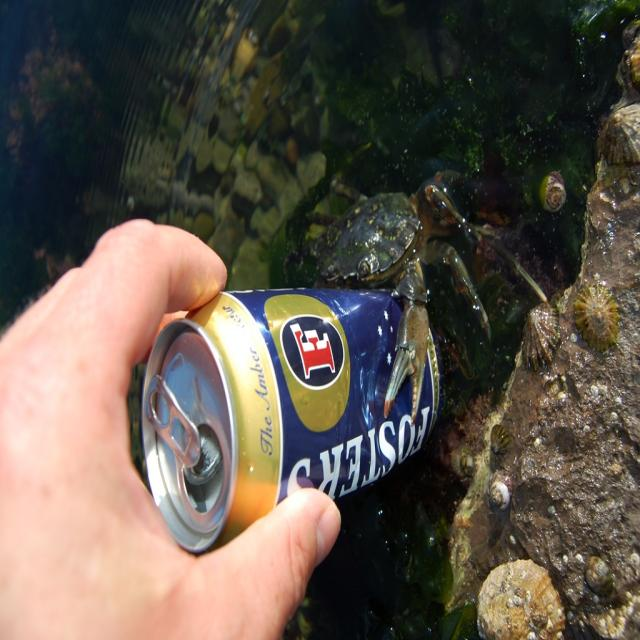fosters: (264, 292, 354, 436)
